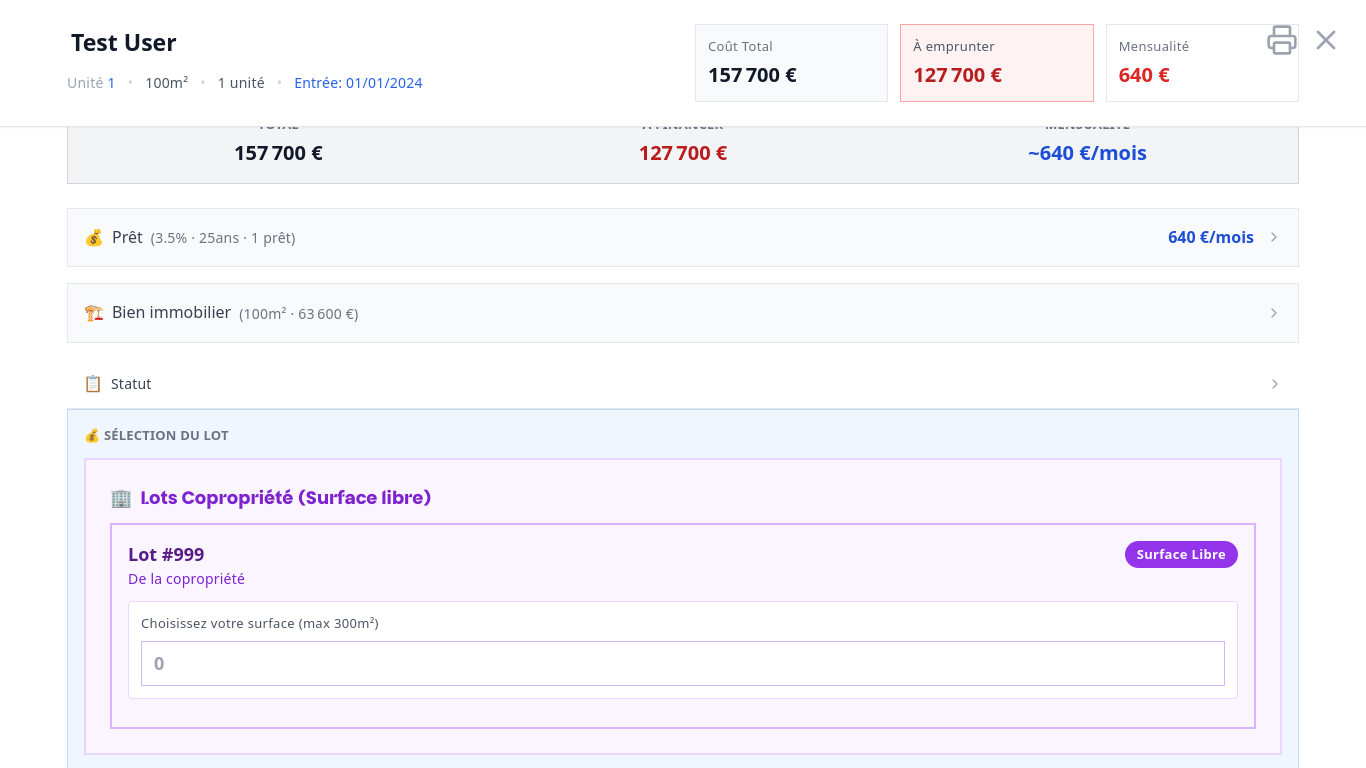
it: ParticipantDetailModal Integration › should show statut section when expanded
The width and height of the screenshot is (1366, 768).
(page scrolled)
Click the button "📋 Statut" at (131, 384), box left=67, top=359, right=1299, bottom=408
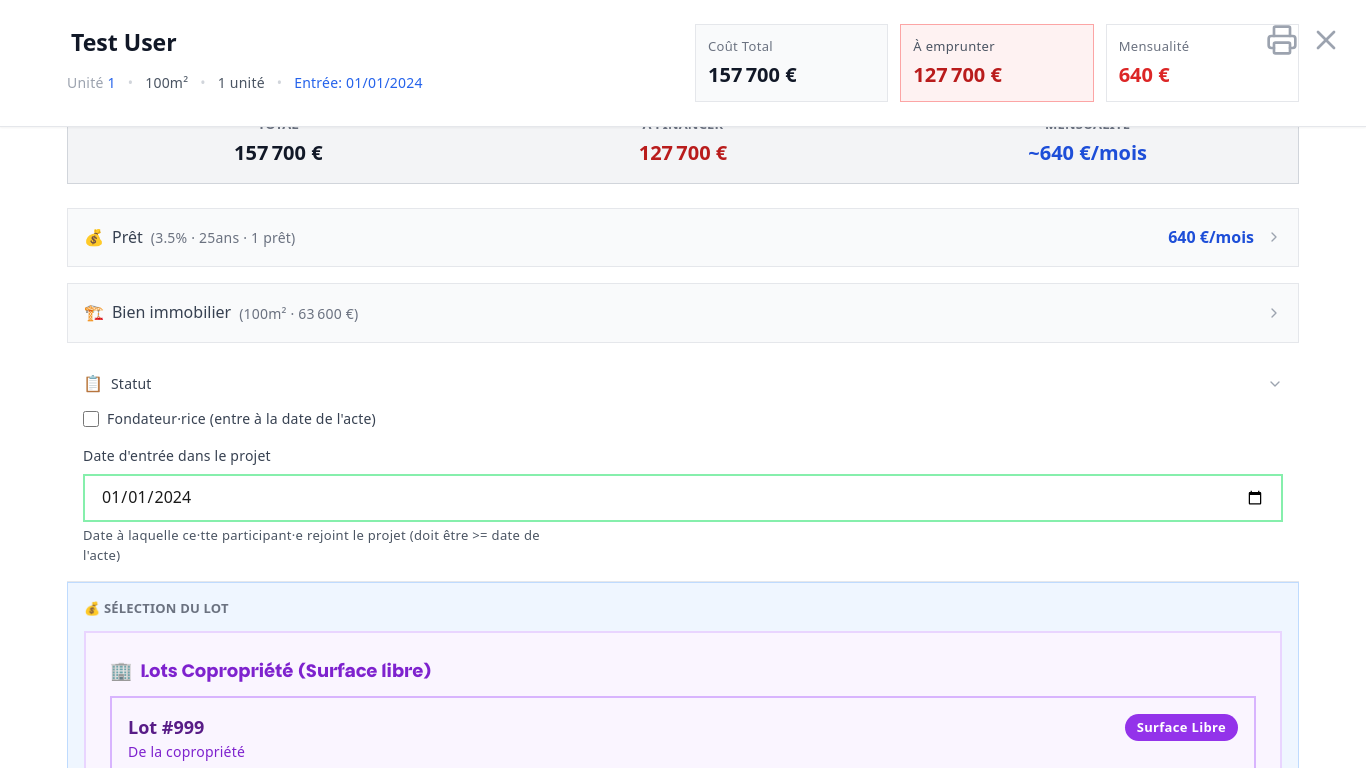
Expected: the text "Fondateur·rice (entre à la date de l'acte)" is shown, left=107, top=408, right=376, bottom=429
Expected: the text "Date d'entrée dans le projet" is shown, left=83, top=446, right=271, bottom=465
